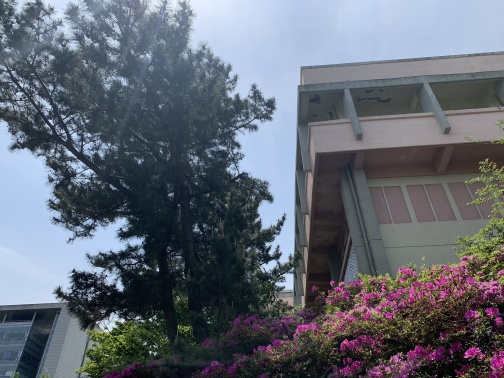College Of Education: (285, 54, 504, 297)
